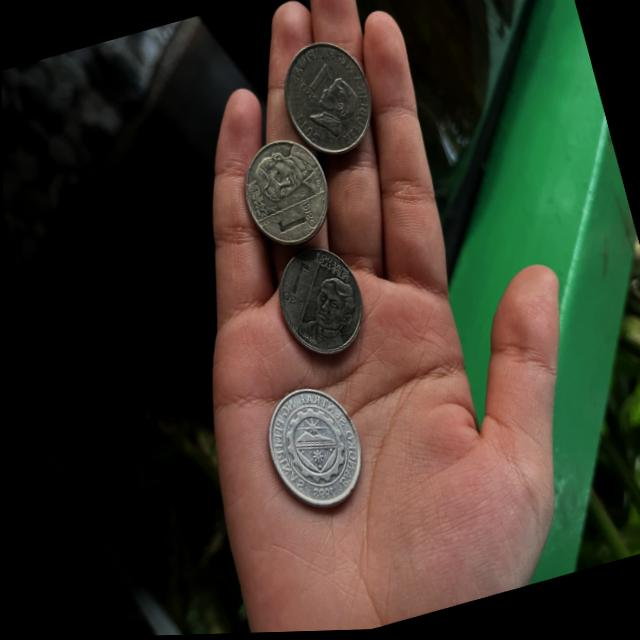1_New_Front: (241, 140, 330, 248), (275, 246, 363, 355)
1_Old_Back: (270, 393, 351, 503)
1_Old_Front: (285, 45, 376, 160)
